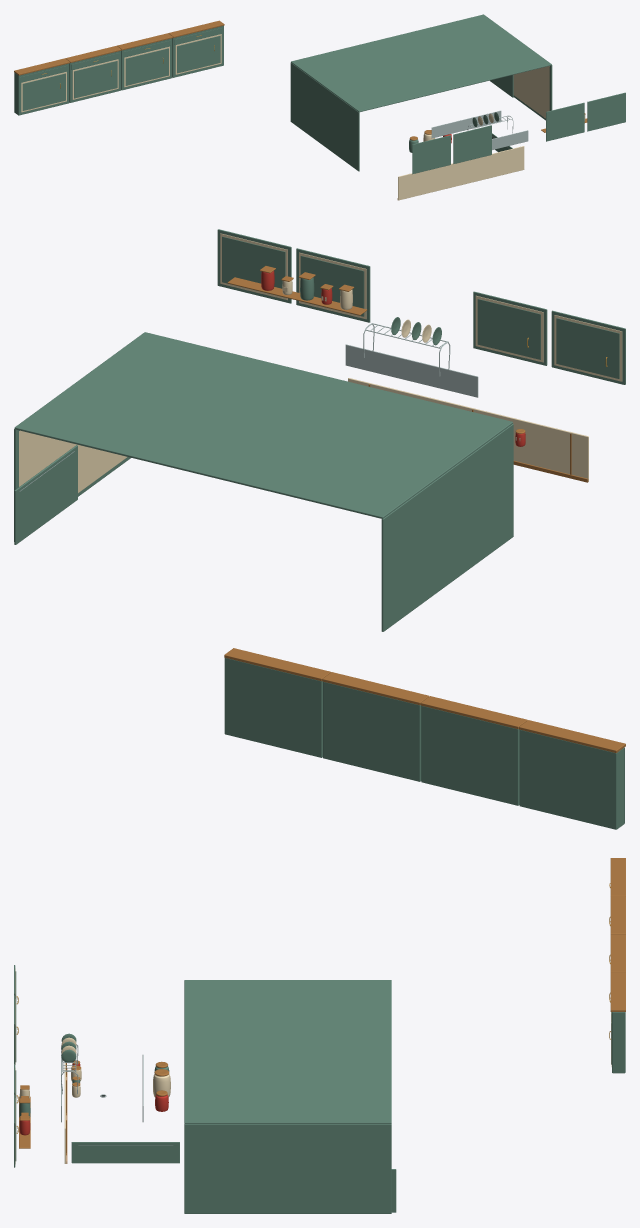
The model's file is family-setting-light.glb.
3 renders of one model, top to bottom at view 1: azimuth 30°, elevation 25°; view 2: azimuth 150°, elevation 25°; view 3: azimuth 270°, elevation 25°, orthographic. The views are drawn at different scales.
Parts seen in each view (by area): view 1: sage (×5), cream (×3), wood, steel; view 2: sage (×5), cream (×3), wood (×2), steel; view 3: sage (×5), wood.
Part boxes in pixels (x1,y1,x2,y2): sage (×5): [14, 14, 625, 174]; cream (×3): [21, 34, 549, 200]; wood: [14, 20, 224, 75]; steel: [431, 110, 528, 149]; sage (×5): [14, 229, 625, 829]; cream (×3): [19, 233, 622, 492]; wood (×2): [224, 266, 625, 752]; steel: [345, 344, 478, 397]; sage (×5): [14, 965, 625, 1213]; wood: [610, 858, 625, 1011].
Size of the model in its own units: 159 by 25.5 by 136.
